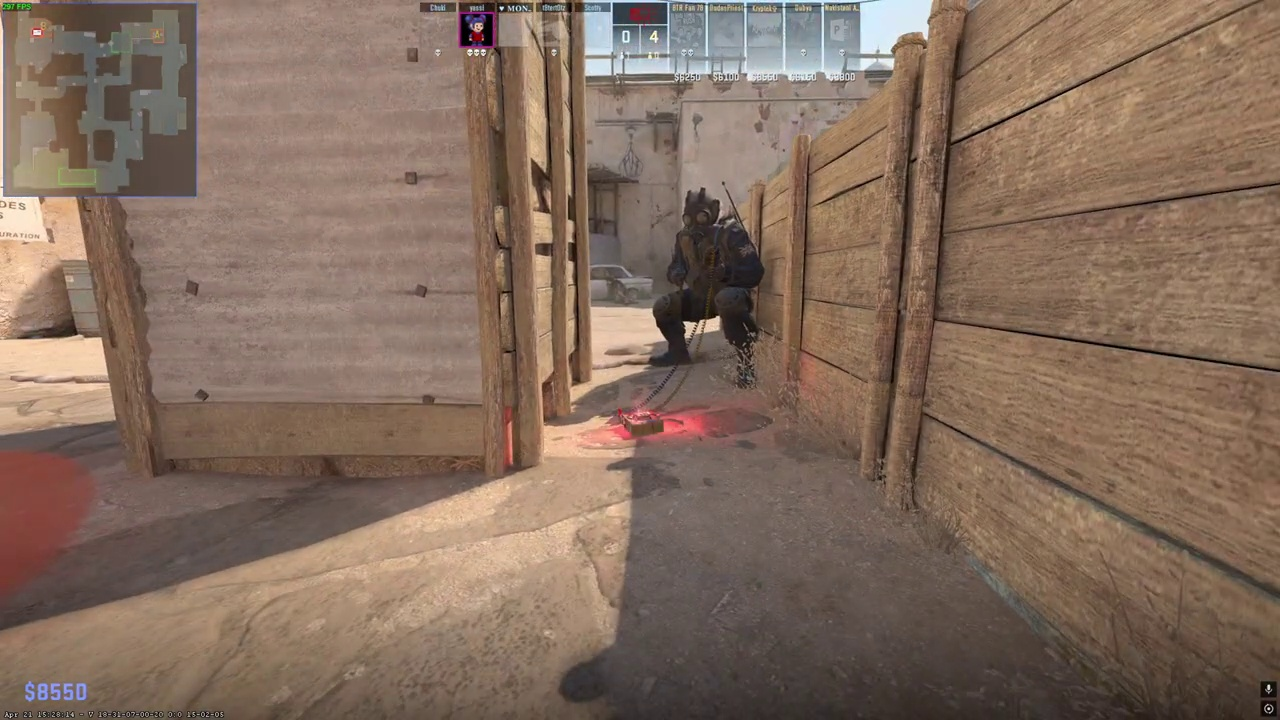CT: (656, 187, 763, 384)
